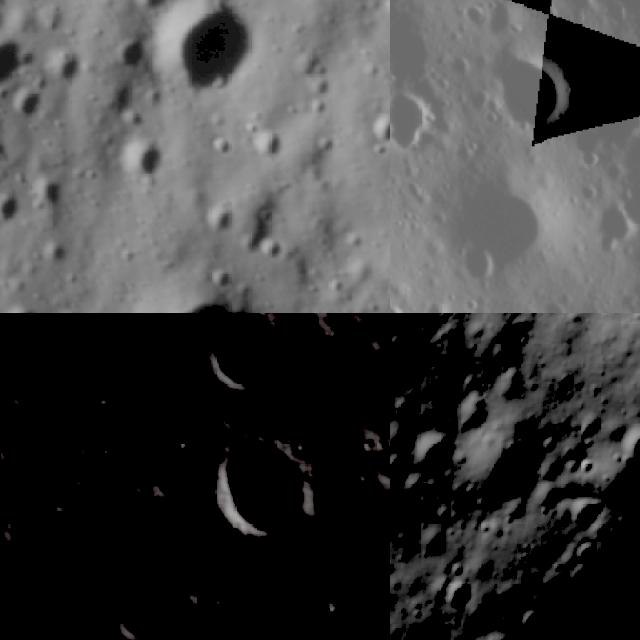crater: (182, 409, 333, 566), (420, 152, 573, 300), (467, 24, 592, 150), (177, 313, 296, 408), (150, 0, 253, 107), (477, 426, 558, 524), (137, 263, 279, 313), (570, 182, 640, 268), (390, 71, 451, 163), (94, 581, 171, 640), (401, 418, 465, 483), (607, 21, 640, 139), (554, 552, 608, 607), (430, 570, 484, 620), (560, 489, 609, 544), (447, 387, 501, 434), (118, 140, 164, 195), (607, 172, 640, 246), (0, 28, 33, 97), (256, 118, 294, 169), (190, 620, 284, 640), (507, 600, 554, 640), (44, 49, 90, 86), (448, 623, 540, 640), (612, 422, 640, 476), (112, 40, 148, 78), (203, 200, 236, 240), (38, 178, 72, 215), (417, 288, 461, 313), (0, 296, 61, 313), (0, 195, 20, 238), (373, 104, 390, 151)
